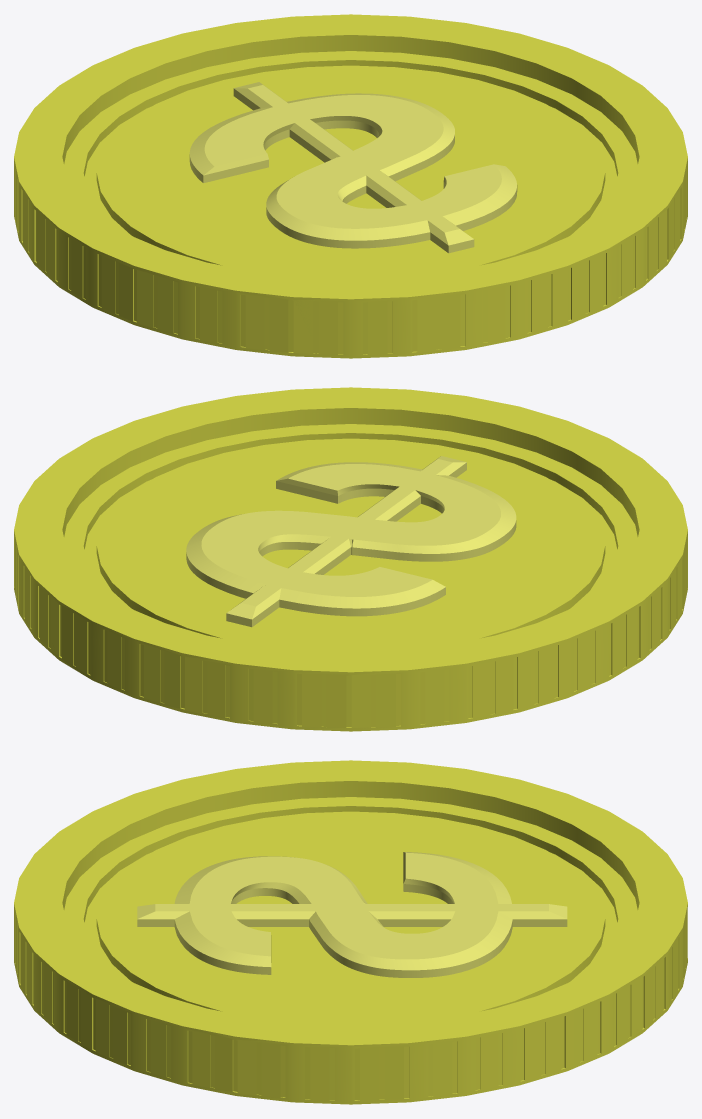
File: Coin.fbx
3 renders of one model, top to bottom at view 1: azimuth 30°, elevation 25°; view 2: azimuth 150°, elevation 25°; view 3: azimuth 270°, elevation 25°, orthographic.
Visible parts, largest first — view 1: 3; view 2: 3; view 3: 3.
Boxes of the visible parts, <box> form: 3: <box>14,14,687,358</box>; 3: <box>14,387,687,731</box>; 3: <box>14,760,687,1104</box>.
Bounding box in the file's own units: 100 × 9.7 × 100.
